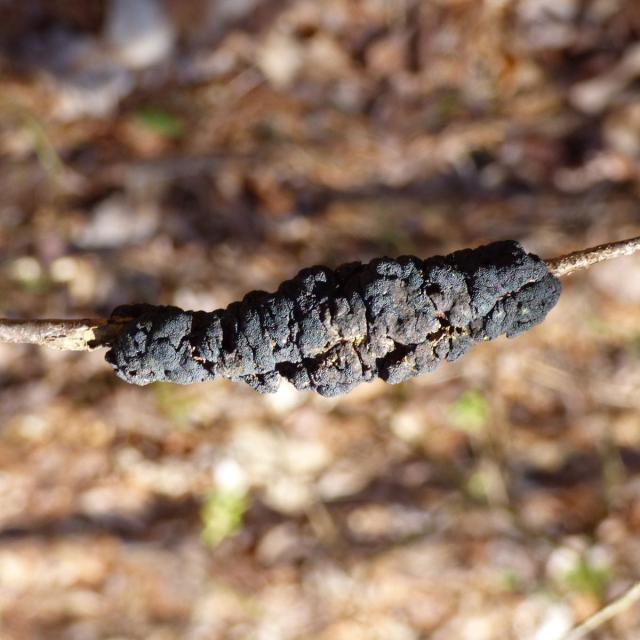Black_knot: (102, 237, 563, 398)
